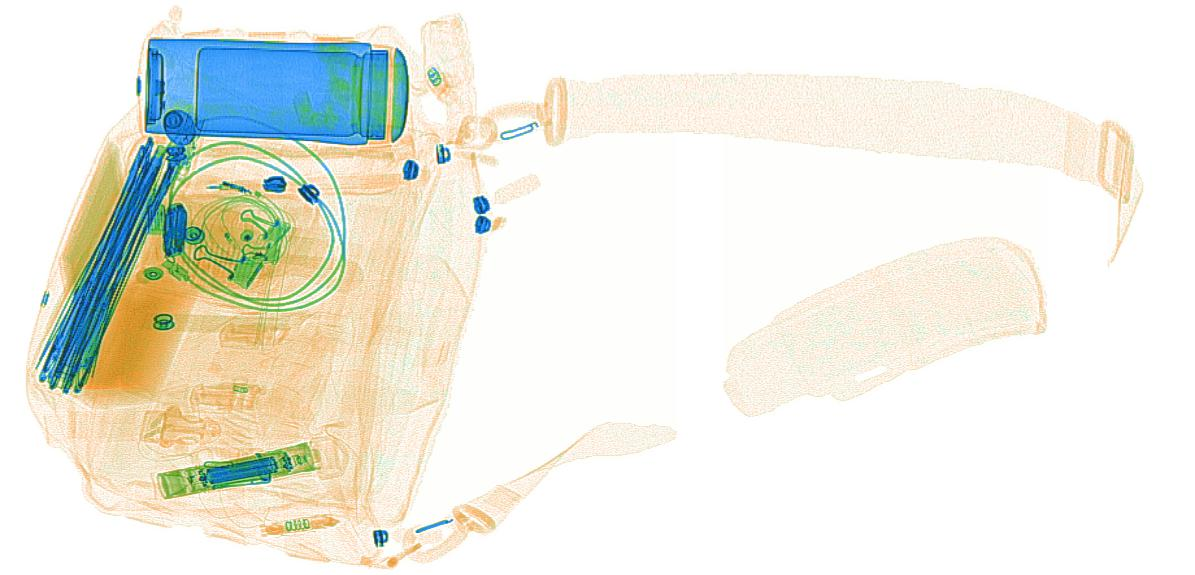battery: (204, 457, 280, 485)
knife: (160, 201, 187, 259)
